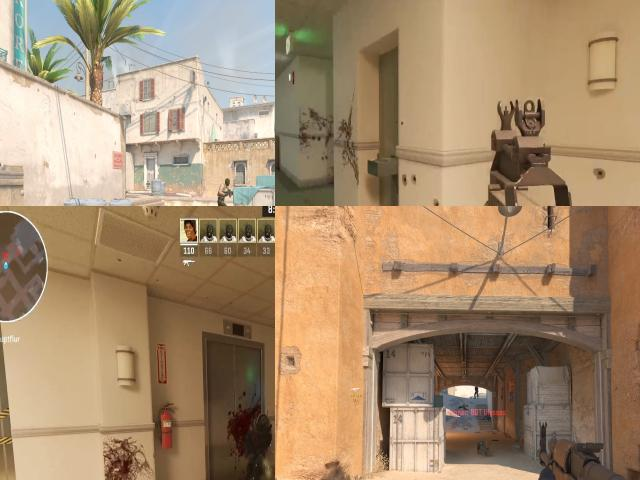CT: (474, 386, 478, 398)
Dead: (241, 399, 275, 480), (478, 440, 490, 454), (459, 403, 469, 409), (485, 412, 491, 420)
T: (214, 178, 233, 206)
T-Head: (225, 178, 230, 186)
